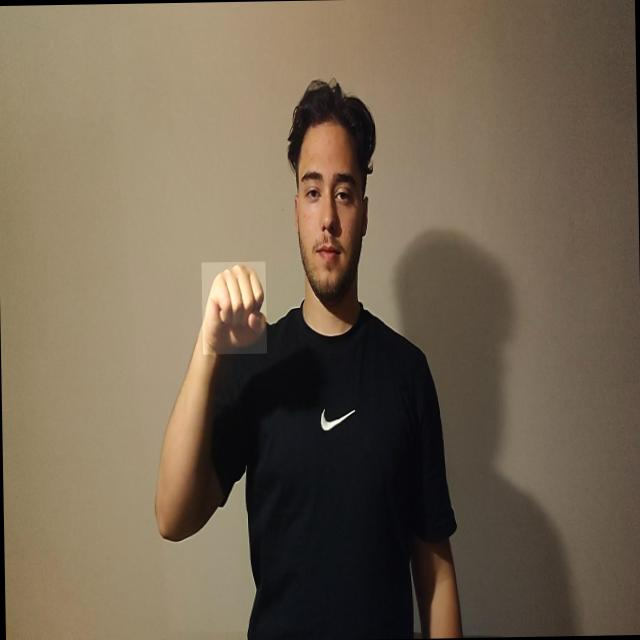yes: (202, 262, 268, 354)
